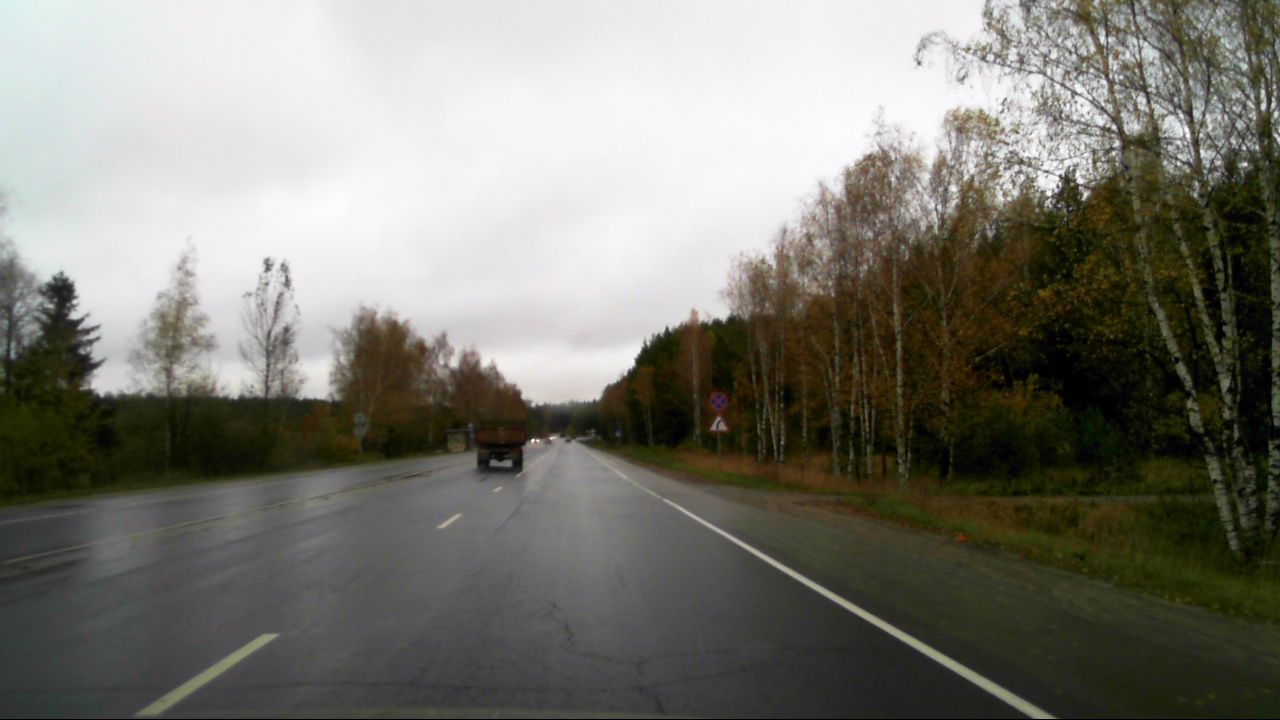No Parking: (707, 390, 730, 411)
